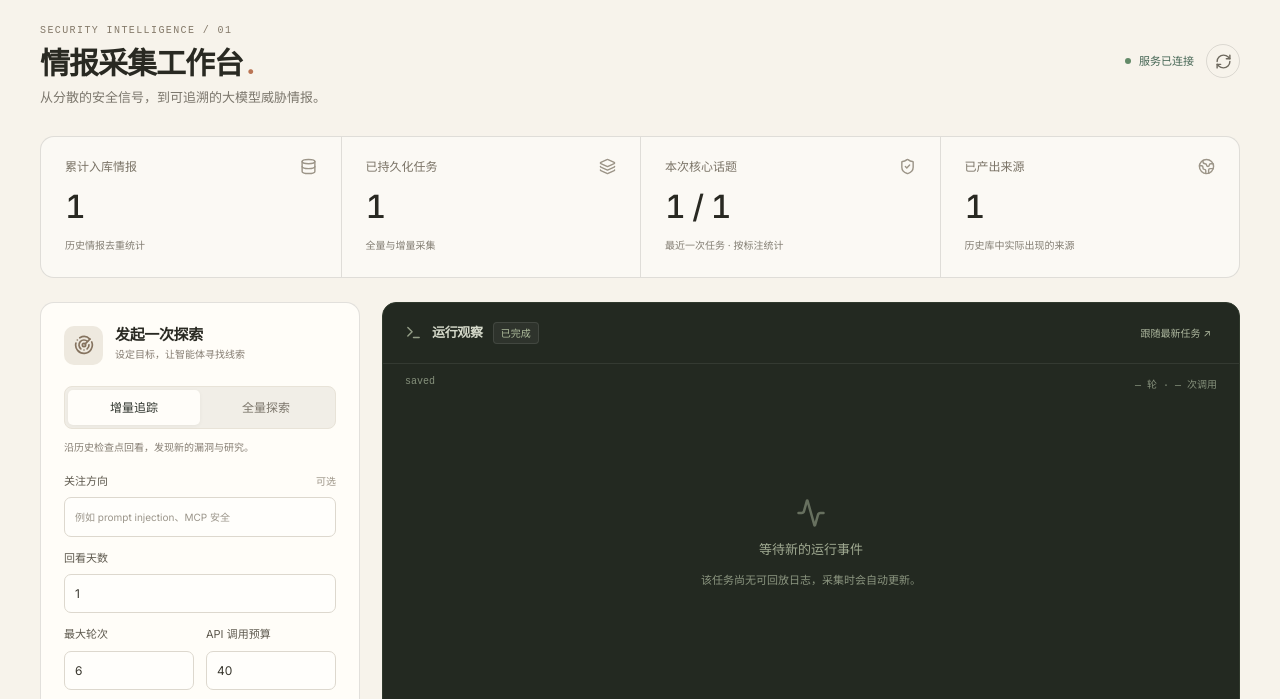
Test case: IntelDashboard › submits budgets above the former caps and filters persisted items
The image size is (1280, 699).
Type "MCP security" into the field labelled "关注方向 可选".
click(200, 517); type("MCP security")  # box [64,498,336,537]
Replace the text in the number field labelled "最大轮次" with "200" at (129, 671), box [64,651,194,690]
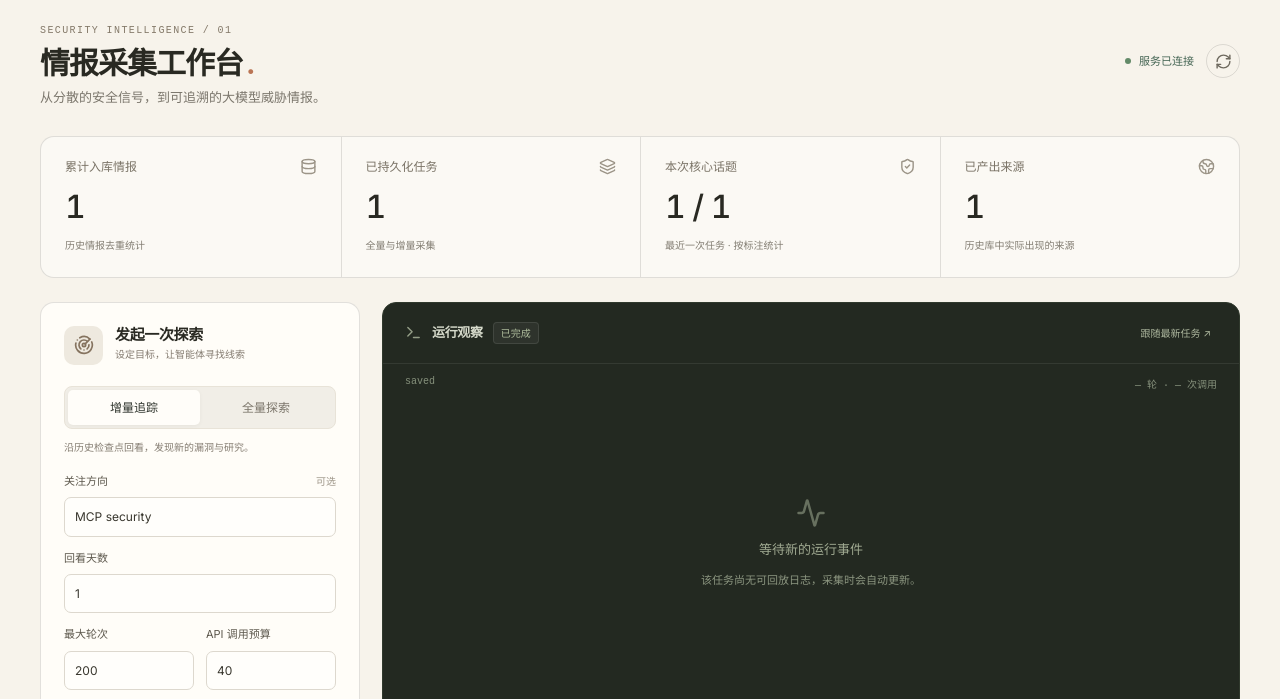
Replace the text in the number field labelled "API 调用预算" with "10000" at (271, 671), box [206,651,336,690]
(page scrolled)
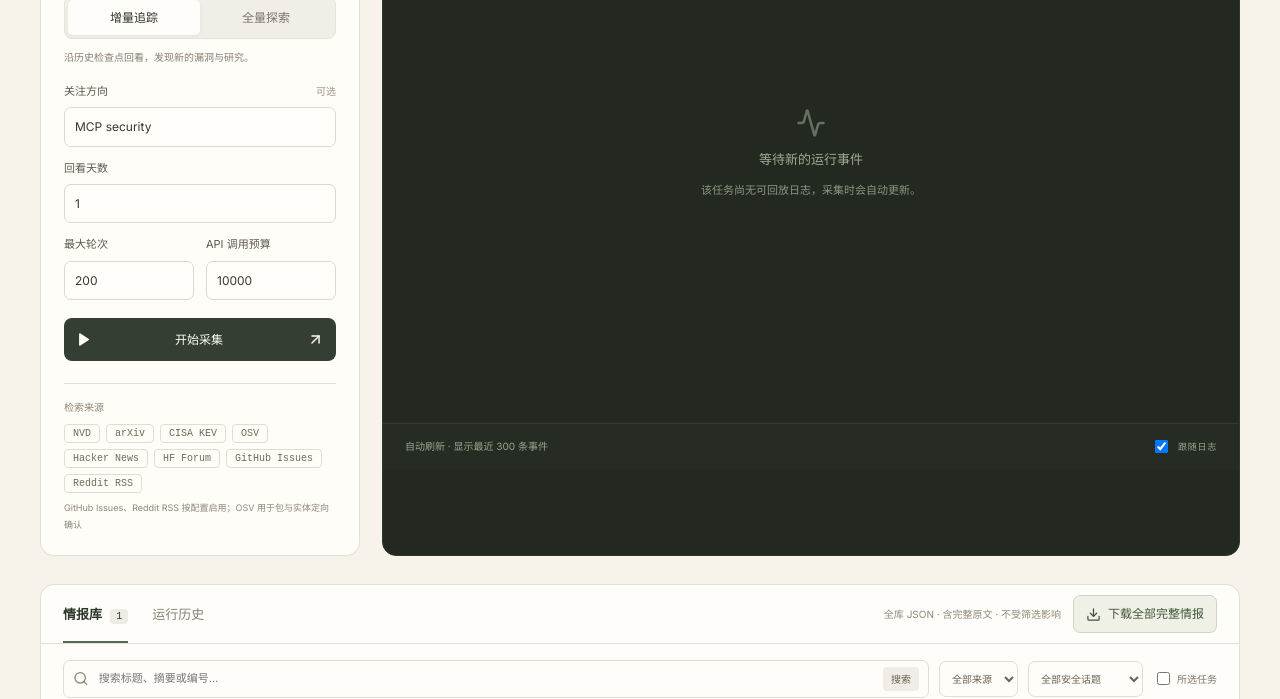
Click the button "开始采集".
click(200, 340)  # box [64,318,336,361]
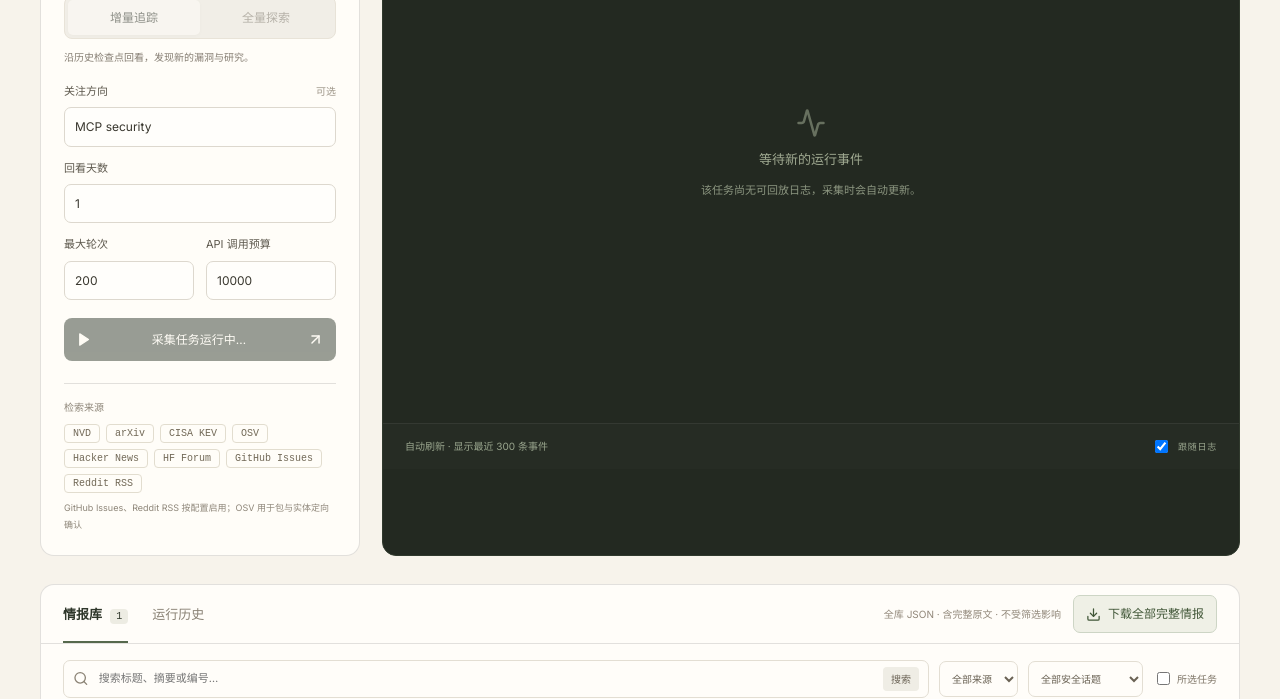
Type "prompt" into the field named "搜索情报".
click(486, 679); type("prompt")  # box [97,669,875,689]
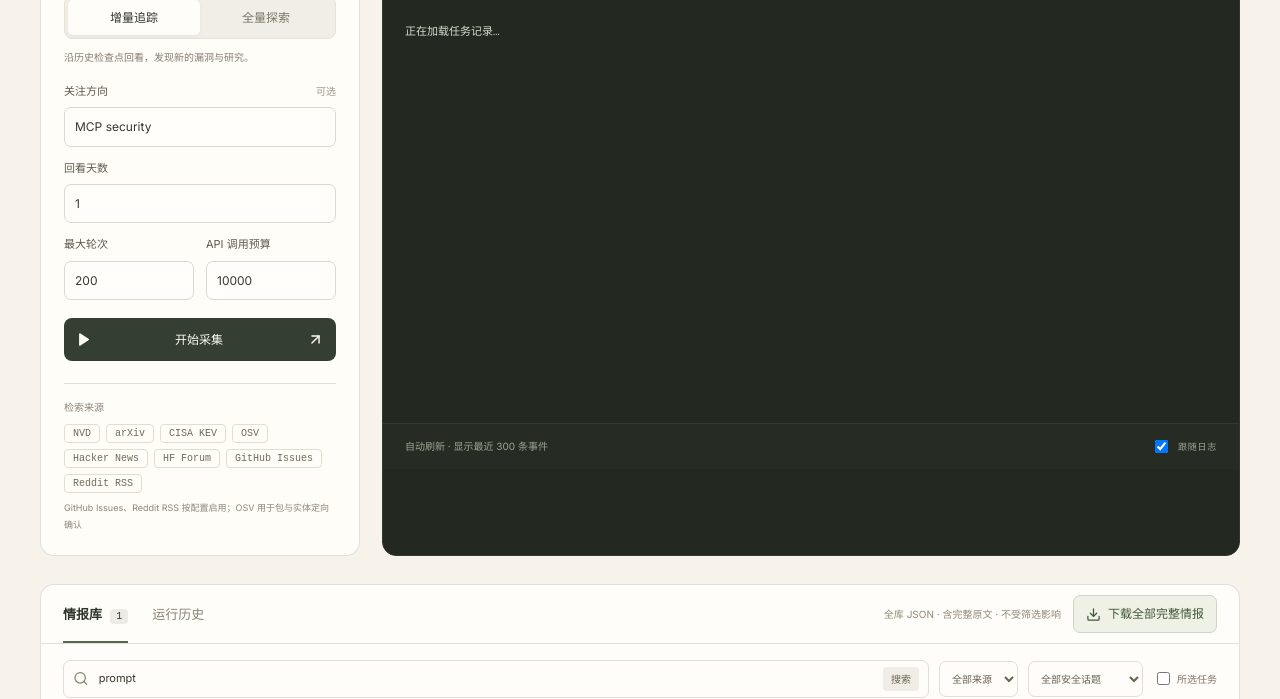
Click the button "搜索".
click(901, 679)  # box [883,667,919,691]
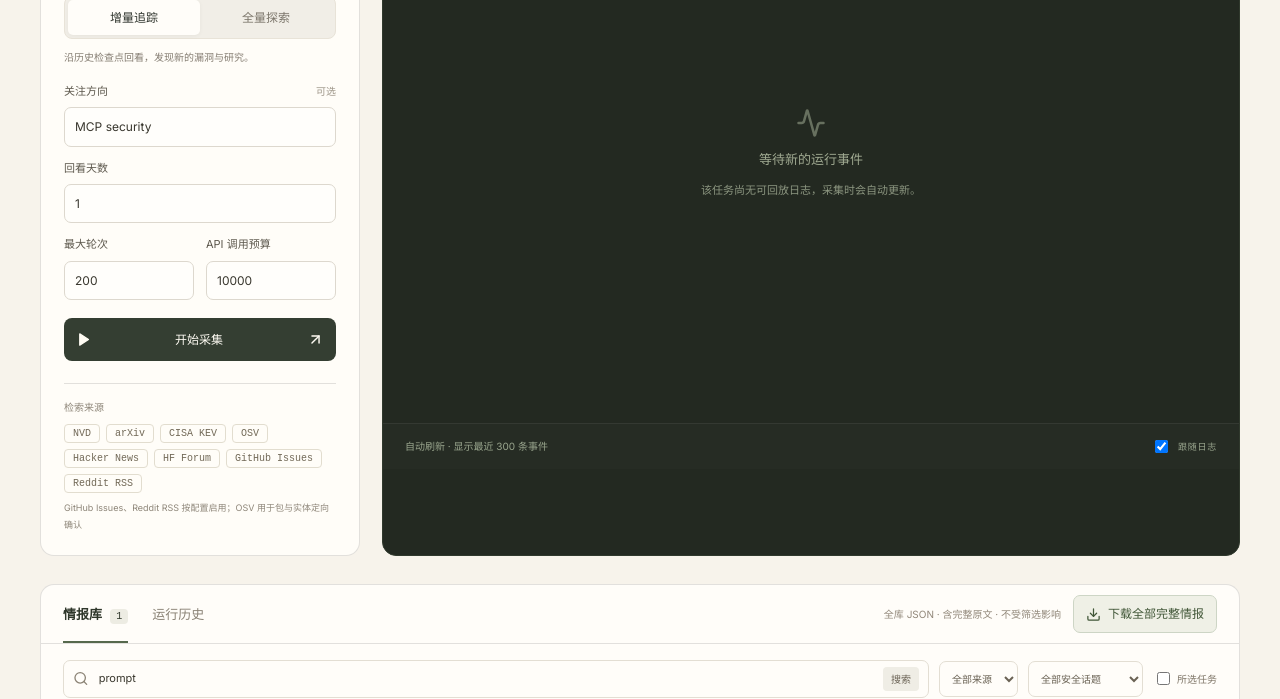
Click the tab "运行历史".
click(178, 614)  # box [152,585,204,643]
(page scrolled)
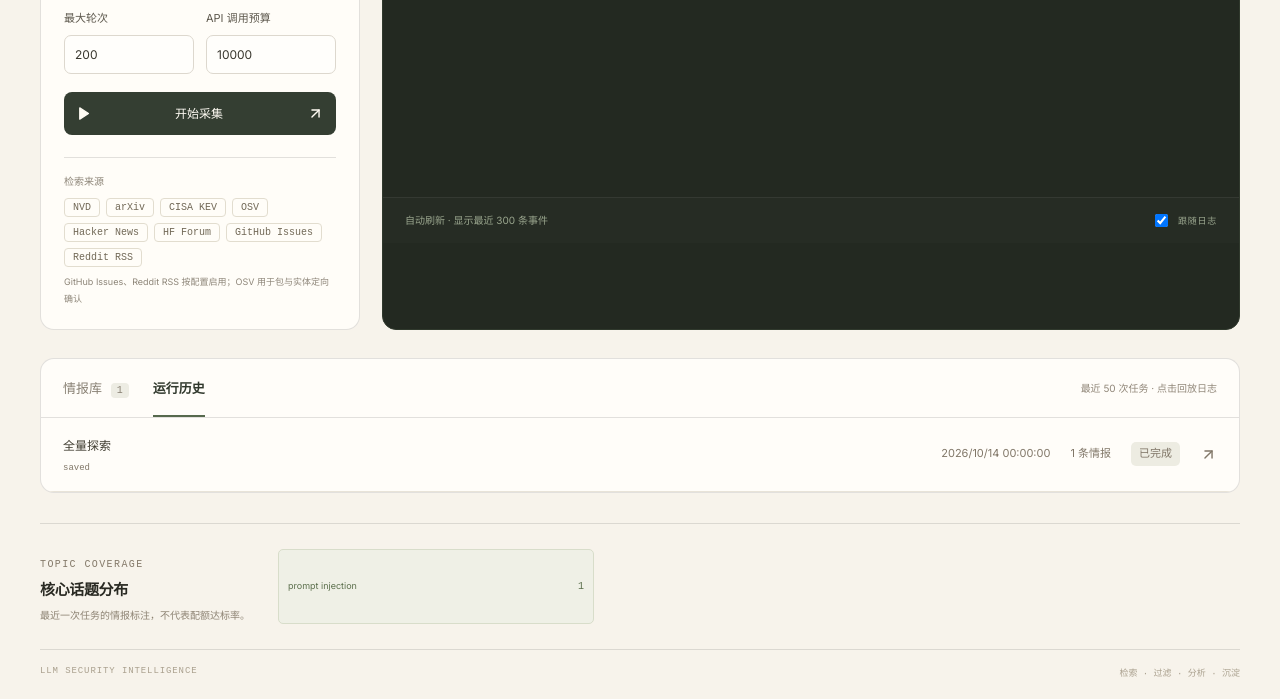
Expected: the button "全量探索 saved 2026/10/14 00:00:00 1 条情报 已完成" is shown, [41,418,1239,492]
